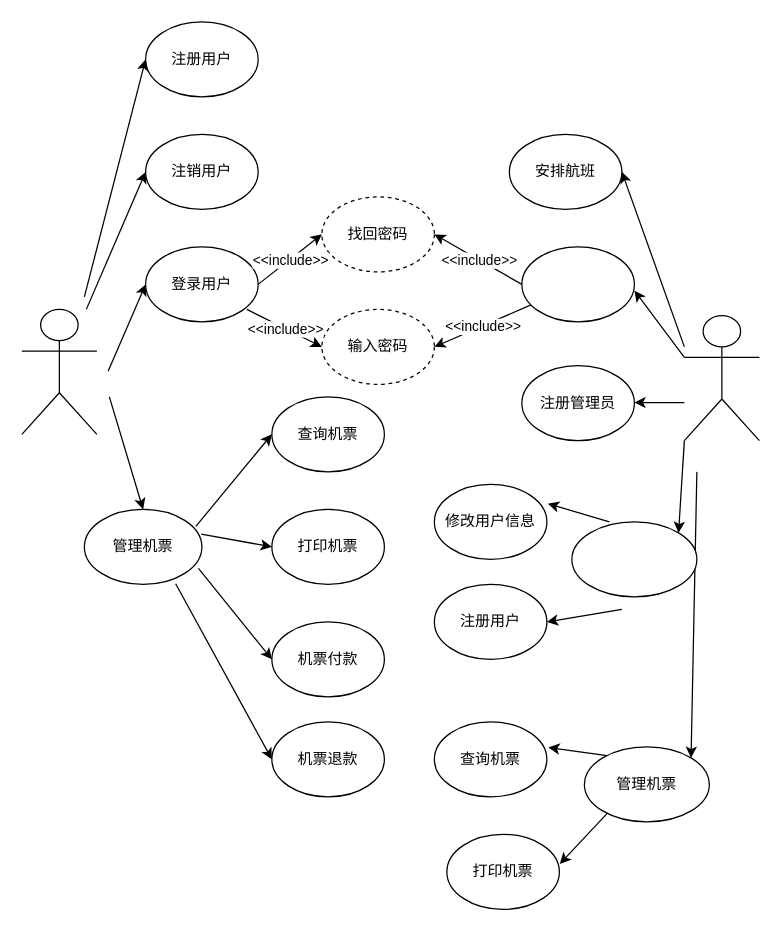
The diagram is 781 pixels wide and 931 high, and some of its shapes have lost their labels. The centre of each missing label's shape, as x and y in pixels:
用户: the point at 59,371
登录系统: the point at 577,284
管理员: the point at 721,377
管理用户: the point at 634,559
